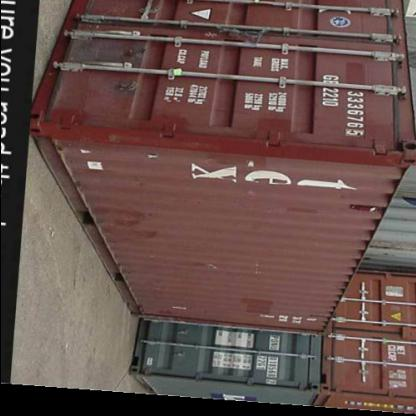Damage: (84, 31, 138, 104), (354, 198, 390, 226), (77, 138, 105, 162), (204, 255, 221, 281), (168, 302, 192, 318), (144, 148, 163, 164)
